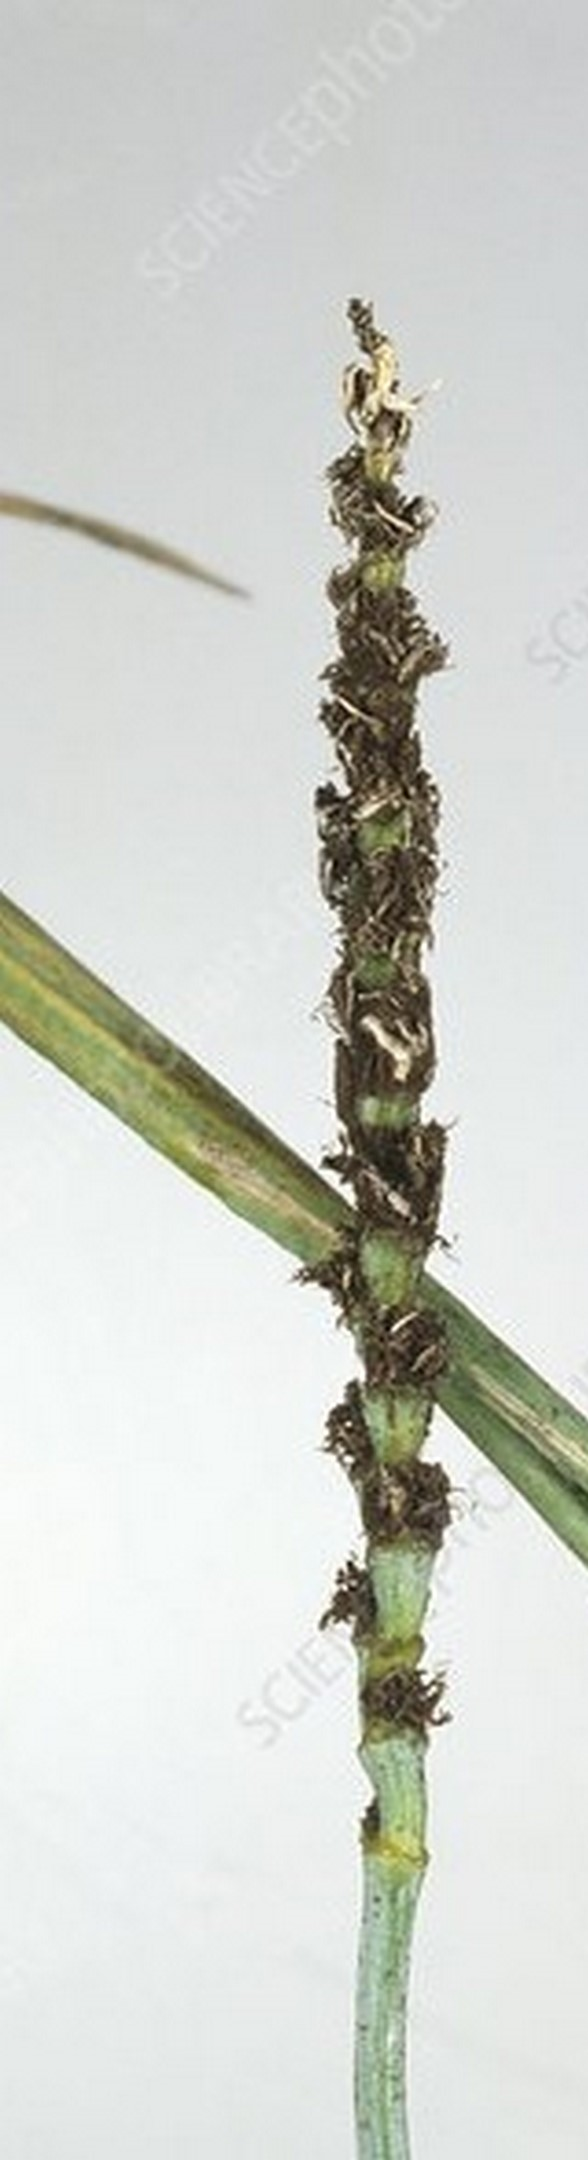Wheat Loose Smut: (251, 302, 551, 1699)
